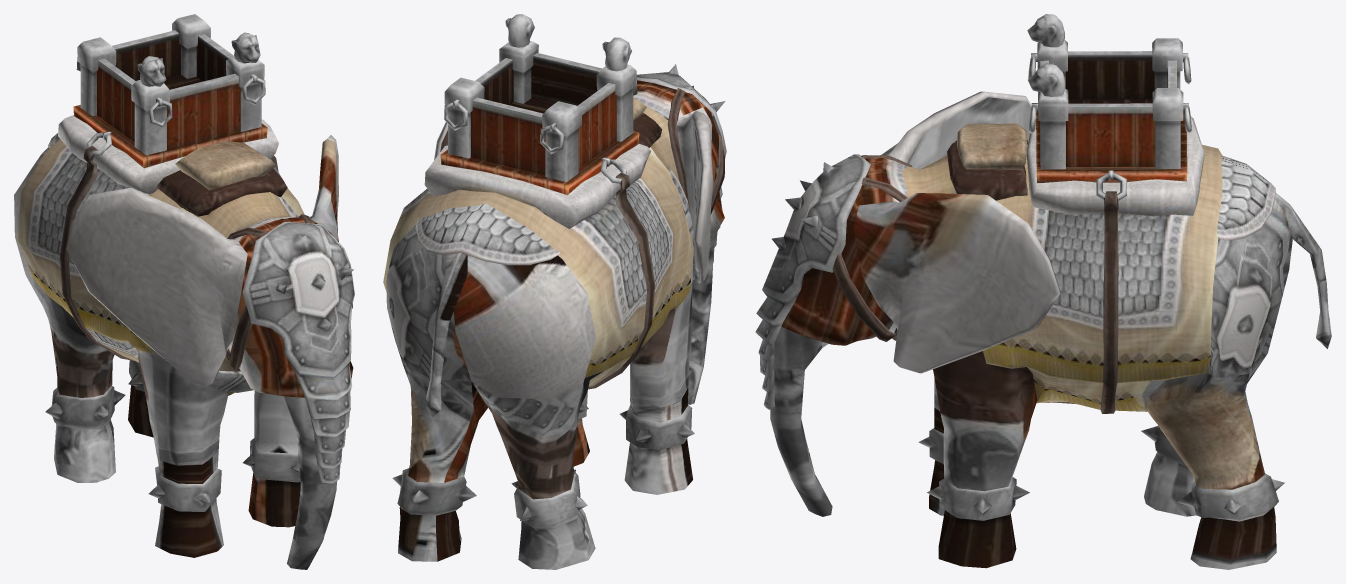
Rendered from body-championwarelephants.glb.
3 renders of one model, left to right at view 1: azimuth 30°, elevation 25°; view 2: azimuth 150°, elevation 25°; view 3: azimuth 270°, elevation 25°, orthographic. The views are drawn at different scales.
Bounding box in the file's own units: 2.63 × 4.36 × 4.65.
1 material, 1 textured.
